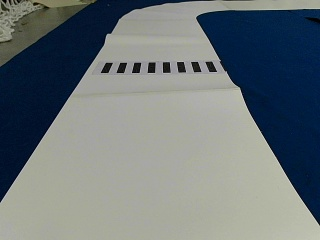crosswalk: (100, 60, 214, 74)
